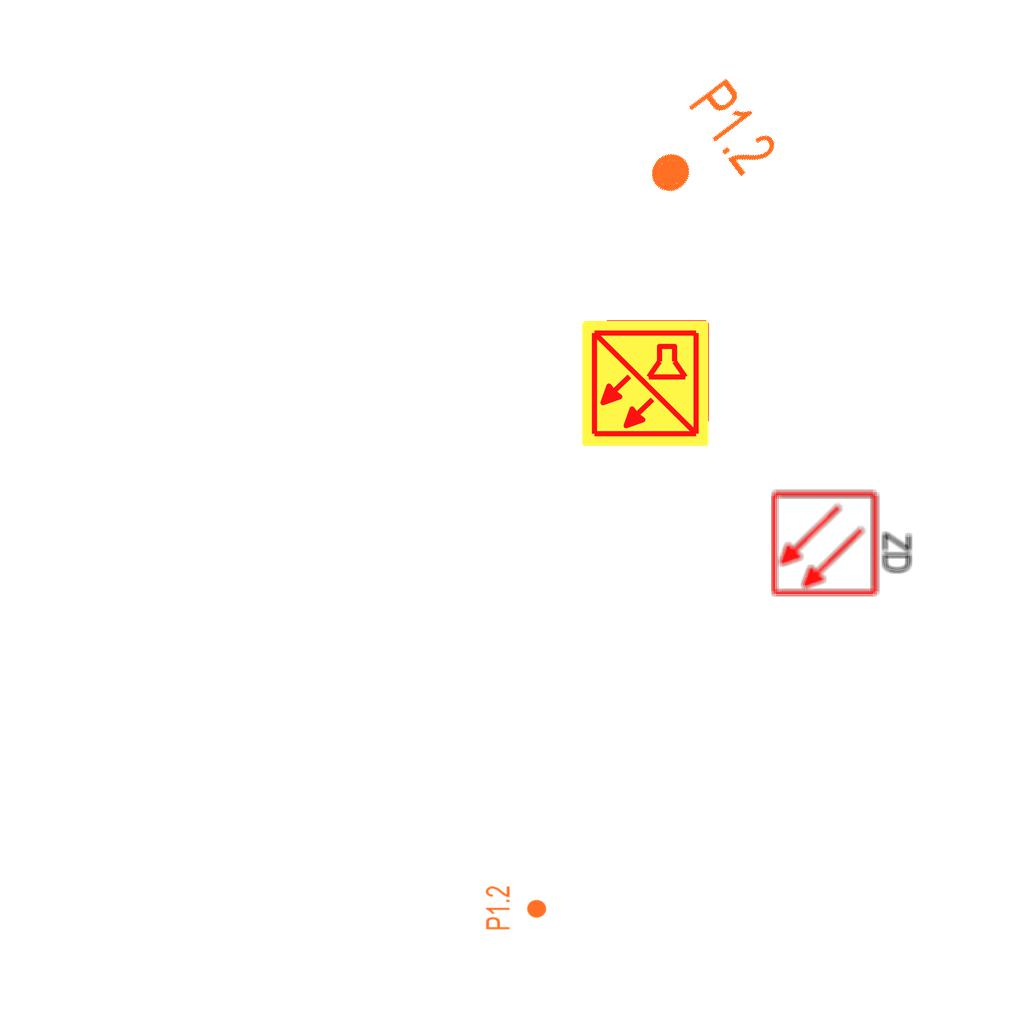Downlight_LED_Einbauleuchten_Flur: (625, 73, 784, 225), (484, 885, 548, 931)
OKW_Multisensormelder_(Kombination_optischer_Rauch-Kahlenmonoxid_Waerme-Melder): (579, 317, 711, 449)
ZD_Melder_in_Zwischendecke_mit_Revisionsoeffnung_mind_40_x_40_cm: (769, 485, 918, 599)
